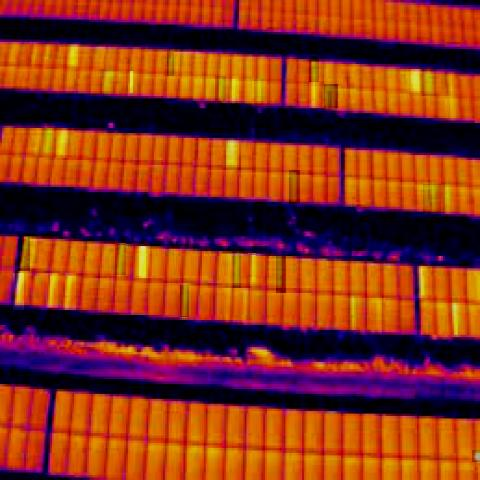fault: (222, 138, 241, 170), (46, 273, 58, 308), (428, 184, 441, 216), (448, 303, 460, 337), (13, 273, 24, 310), (65, 273, 76, 310), (18, 239, 30, 271), (422, 69, 436, 96), (42, 128, 56, 155), (417, 266, 428, 300), (289, 170, 300, 204), (276, 256, 286, 293), (100, 69, 115, 93), (115, 244, 126, 276), (348, 295, 358, 329), (324, 84, 338, 108), (56, 130, 68, 158), (180, 286, 189, 318), (309, 56, 319, 84), (215, 76, 226, 101), (233, 254, 241, 288), (443, 182, 452, 212), (248, 253, 256, 286), (309, 82, 319, 108), (67, 44, 78, 66), (410, 69, 420, 93), (254, 82, 263, 108), (139, 246, 146, 278), (423, 184, 430, 212), (232, 76, 239, 101), (167, 52, 174, 76), (472, 450, 480, 462), (130, 72, 133, 94)
